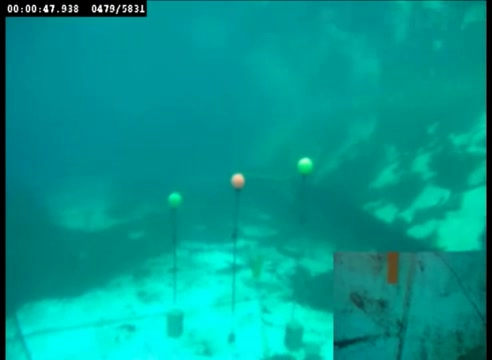buoy_green: (296, 156, 312, 177), (166, 191, 182, 210)
buoy_red: (231, 171, 245, 189)
